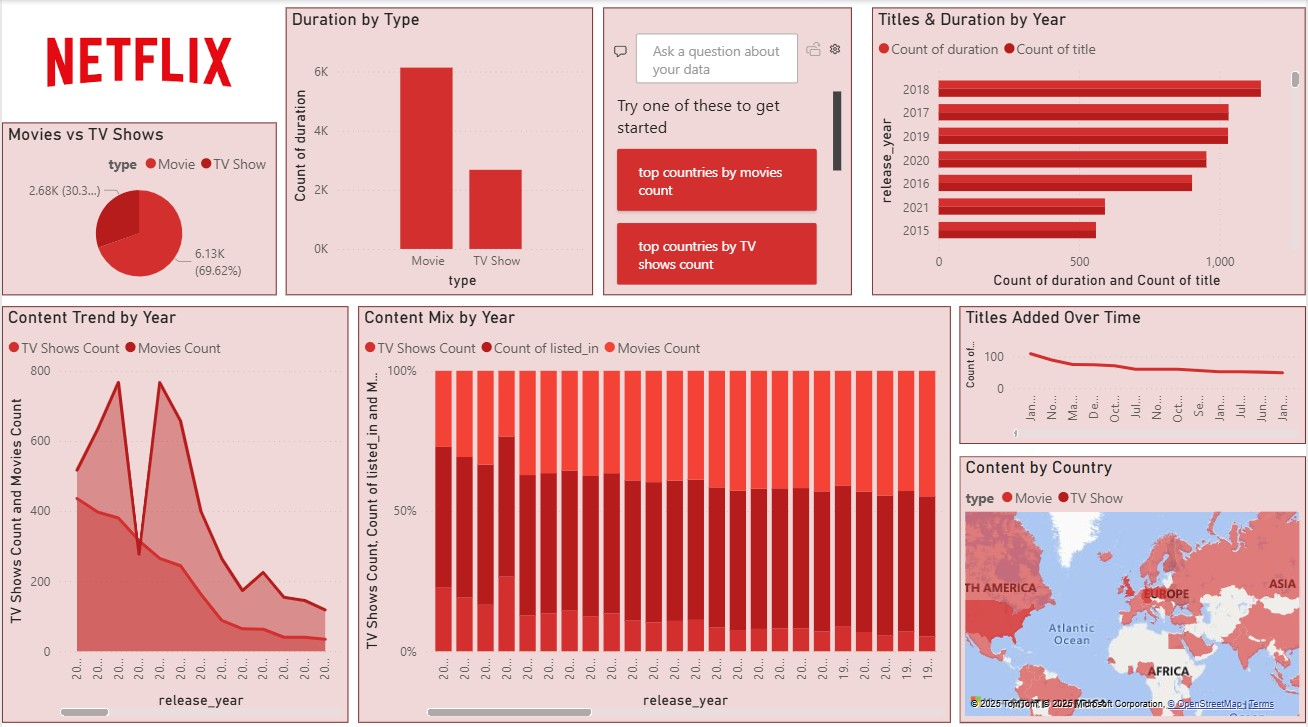

The dashboard page shown, as its layout file describes it:
{"tool":"powerbi","page":{"name":"Page 1","canvas":[1280,720],"ordinal":0},"visuals":[{"type":"pieChart","title":"Movies vs TV Shows","fields":{"Y":["CountNonNull(netflix_titles.type)"],"Category":["netflix_titles.type"]},"box":[0,120.2,269.9,169.3],"z":0},{"type":"columnChart","title":"Duration by Type","fields":{"Category":["netflix_titles.type"],"Y":["CountNonNull(netflix_titles.duration)"]},"box":[278.5,7.4,301.8,282.2],"z":1000},{"type":"clusteredBarChart","title":"Titles & Duration by Year","fields":{"Category":["netflix_titles.release_year"],"Y":["CountNonNull(netflix_titles.duration)","CountNonNull(netflix_titles.title)"]},"box":[854,7.4,425.8,282.2],"z":2000},{"type":"hundredPercentStackedColumnChart","title":"Content Mix by Year","fields":{"Y":["netflix_titles.TV Shows Count","CountNonNull(netflix_titles.listed_in)","netflix_titles.Movies Count"],"Category":["netflix_titles.release_year"]},"box":[349.7,300.6,581.6,408.6],"z":3000},{"type":"areaChart","title":"Content Trend by Year","fields":{"Y":["netflix_titles.TV Shows Count","netflix_titles.Movies Count"],"Category":["netflix_titles.release_year"]},"box":[0,300.6,339.9,408.6],"z":4000},{"type":"lineChart","title":"Titles Added Over Time","fields":{"Y":["CountNonNull(netflix_titles.title)"],"Category":["netflix_titles.date_added"]},"box":[939.9,300.6,339.9,135],"z":5000},{"type":"azureMap","title":"Content by Country","fields":{"Category":["netflix_titles.country"],"Series":["netflix_titles.type"]},"box":[939.9,447.9,339.9,261.4],"z":6000},{"type":"qnaVisual","box":[590.2,7.4,254,282.2],"z":7000},{"type":"image","box":[0,0,269.9,120.2],"z":8000}]}

Visuals, with their boxes in screenshot pixels (x1, y1, x2, y2), scaled from the page's 1280x720 canvas onto the 1308x727 screenshot:
"Movies vs TV Shows" pieChart: (0,121,276,292)
"Duration by Type" columnChart: (285,7,593,292)
"Titles & Duration by Year" clusteredBarChart: (873,7,1307,292)
"Content Mix by Year" hundredPercentStackedColumnChart: (357,304,952,716)
"Content Trend by Year" areaChart: (0,304,347,716)
"Titles Added Over Time" lineChart: (960,304,1307,440)
"Content by Country" azureMap: (960,452,1307,716)
qnaVisual: (603,7,863,292)
image: (0,0,276,121)
